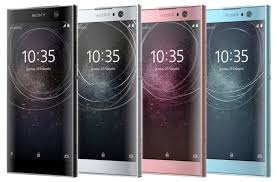sony: (5, 2, 78, 181), (137, 2, 204, 179), (75, 3, 142, 180), (203, 1, 270, 177)
